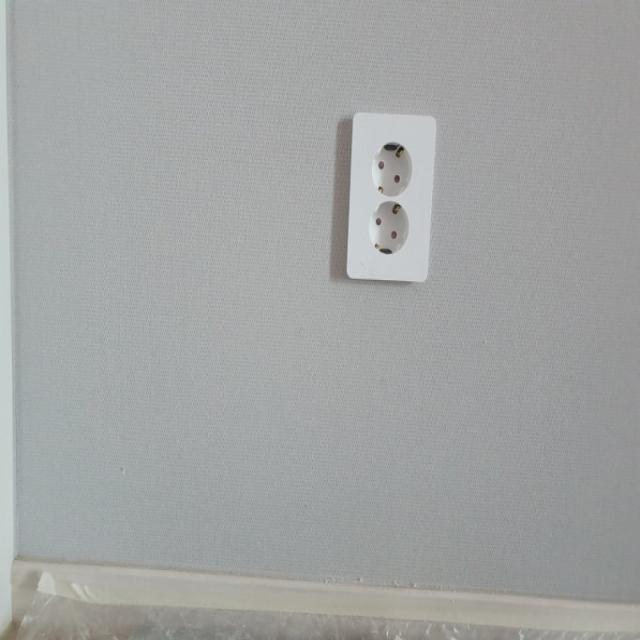typeb: (280, 55, 454, 341)
